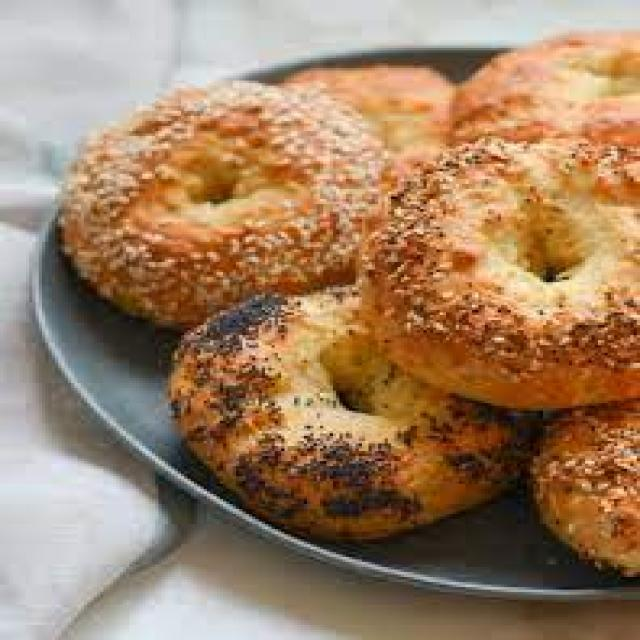Bagel: (168, 285, 523, 541), (61, 81, 383, 324), (366, 139, 638, 408), (529, 400, 637, 577)
